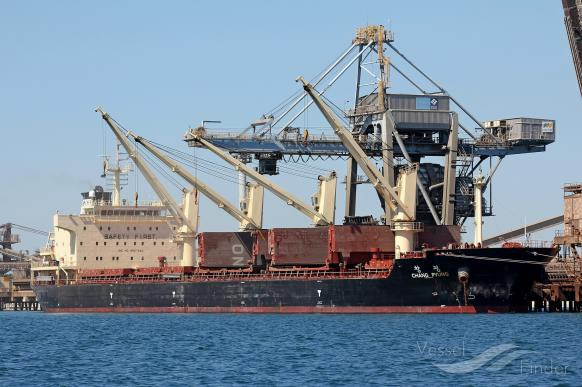OCR: (404, 262, 454, 282)
